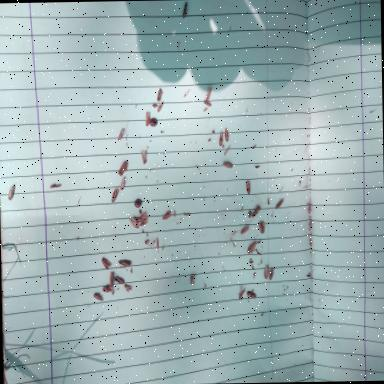pbw: (111, 185, 119, 205), (118, 160, 128, 176), (100, 257, 112, 270), (247, 242, 258, 255), (129, 216, 139, 230), (112, 274, 124, 285), (140, 150, 148, 165), (238, 283, 245, 300), (118, 259, 132, 267), (118, 128, 126, 142), (251, 207, 261, 218), (275, 198, 284, 210), (182, 2, 188, 20), (101, 285, 114, 293), (136, 212, 146, 222), (162, 210, 172, 220), (108, 272, 114, 288), (144, 112, 150, 128), (246, 292, 256, 301), (206, 86, 212, 101), (240, 226, 250, 235), (8, 186, 14, 201), (93, 293, 104, 301), (264, 266, 270, 280), (120, 177, 126, 191), (219, 131, 224, 147), (268, 268, 274, 281), (258, 221, 264, 234), (224, 127, 229, 142), (124, 284, 133, 292), (158, 101, 164, 113), (204, 98, 212, 107), (157, 88, 162, 102), (246, 180, 251, 194), (190, 274, 196, 285), (140, 219, 148, 227), (222, 163, 232, 169), (156, 237, 159, 250)
